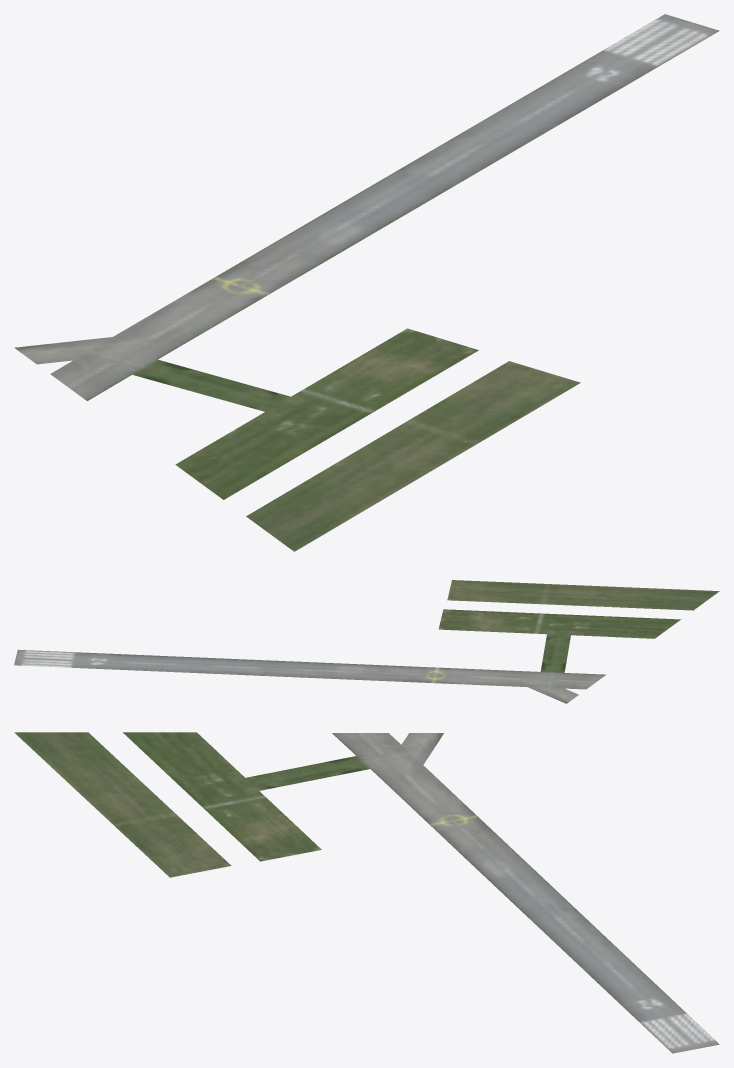
Rendered from LSZG_0_0.glb.
The picture shows the model from 3 angles, top to bottom: view 1: azimuth 30°, elevation 25°; view 2: azimuth 150°, elevation 25°; view 3: azimuth 270°, elevation 25°; orthographic projection. The views are drawn at different scales.
Parts seen in each view (by area): view 1: pavement_LSZG_pavement_5197_2451; view 2: pavement_LSZG_pavement_5197_2451; view 3: pavement_LSZG_pavement_5197_2451.
Boxes of the visible parts, x1=… form: pavement_LSZG_pavement_5197_2451: x1=14, y1=14, x2=719, y2=551; pavement_LSZG_pavement_5197_2451: x1=14, y1=580, x2=719, y2=703; pavement_LSZG_pavement_5197_2451: x1=14, y1=732, x2=719, y2=1053.
Size of the model in its own units: 335 by 0.6092 by 313.
Materials: 1 (1 with a texture image).
